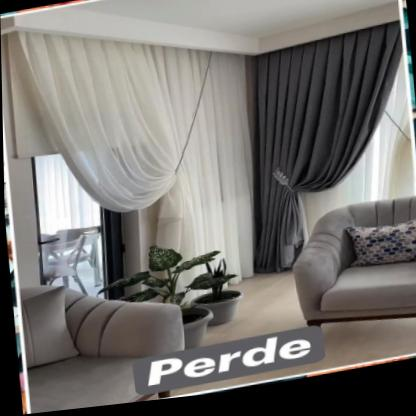Curtains: (1, 32, 257, 281), (245, 32, 401, 281)
